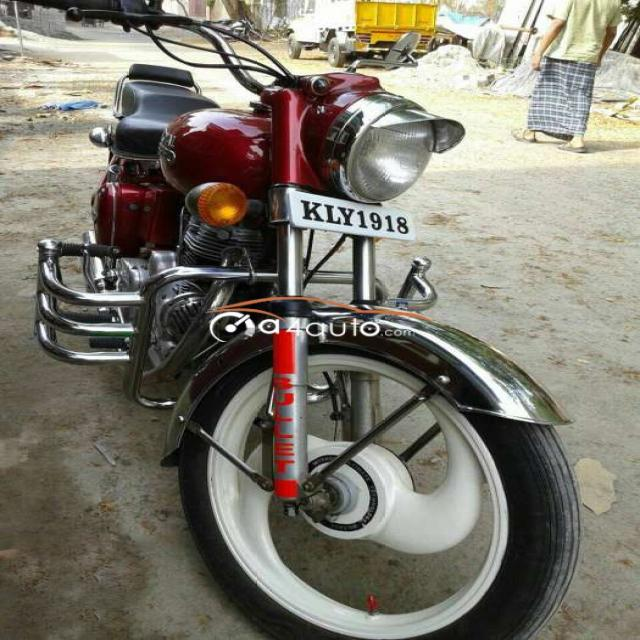license_plate: (285, 188, 416, 242)
